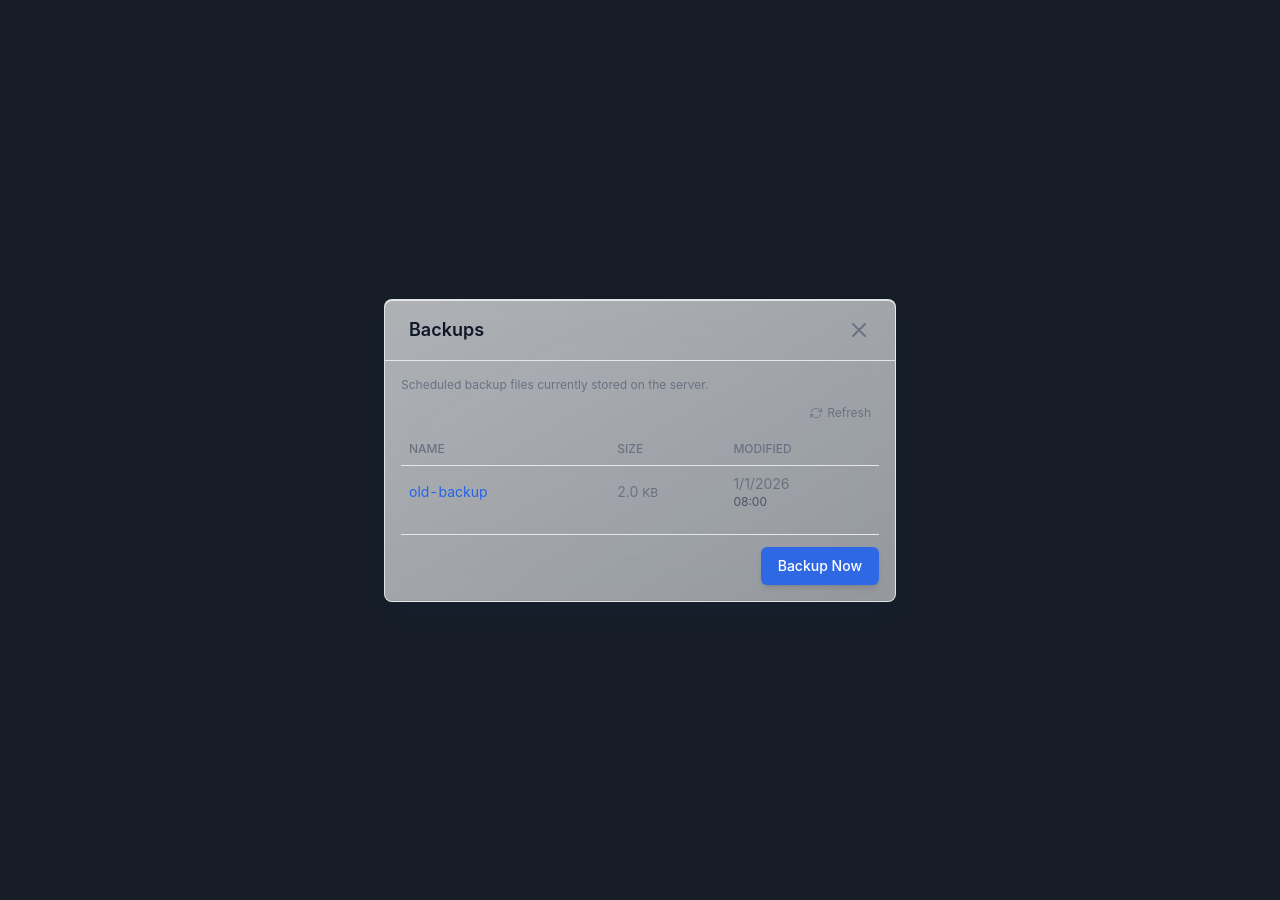
Test: BackupsModal › clicking Refresh re-fetches and shows the latest data
Expected: the link "old-backup" is shown, [409,482,488,500]
Click the button with aria-label "Refresh backup list".
click(840, 412)  # box [801,400,879,424]
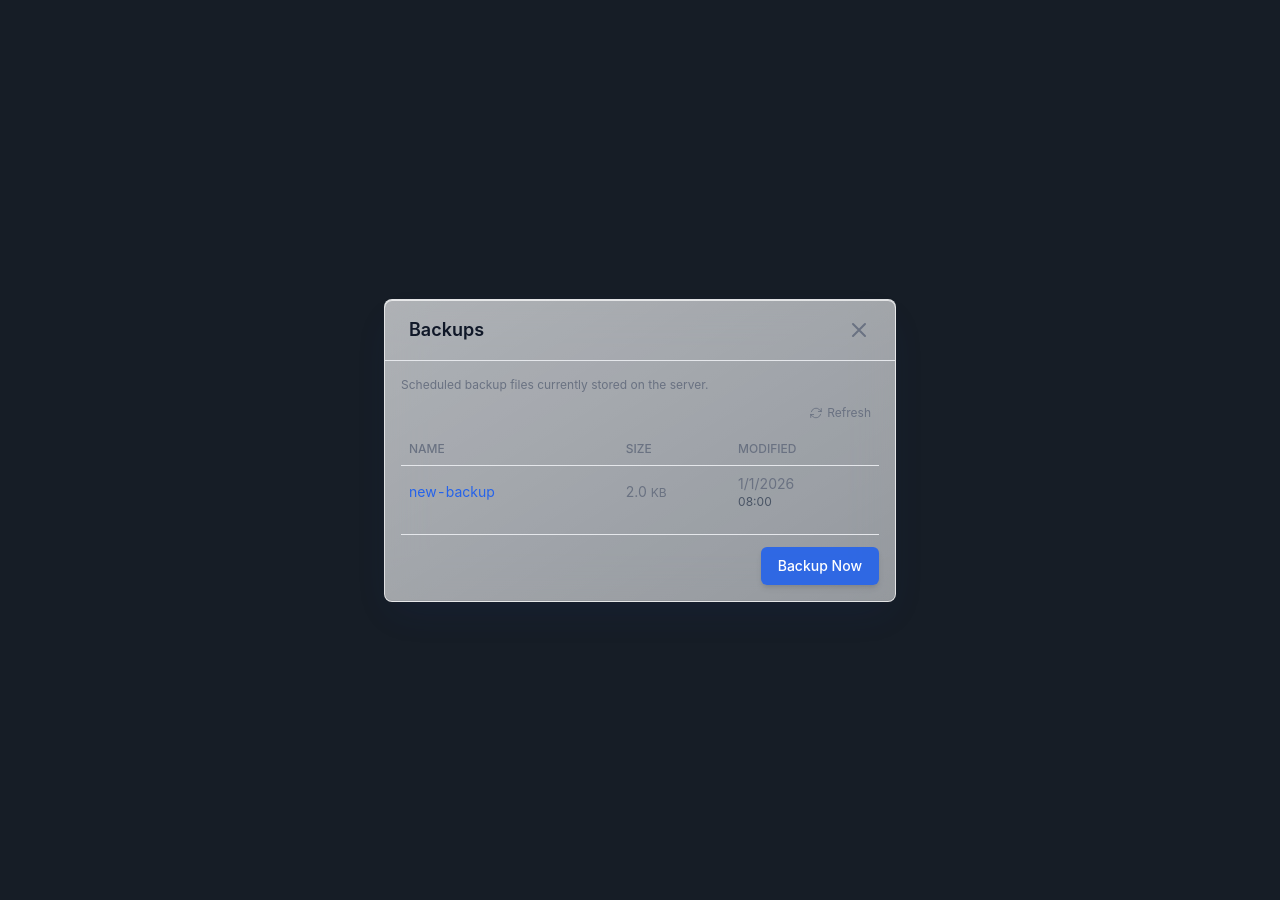
Expected: the link "new-backup" is shown, [409,482,495,500]
Expected: the link "old-backup" is gone
